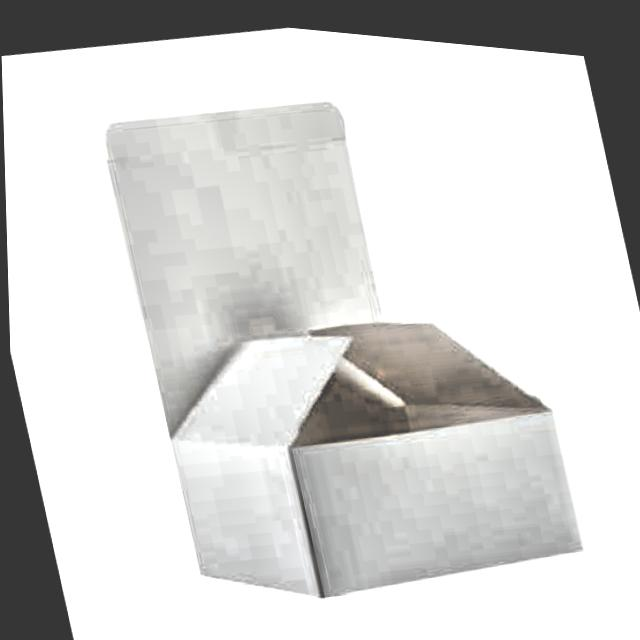Cardbox: (66, 13, 622, 640)
